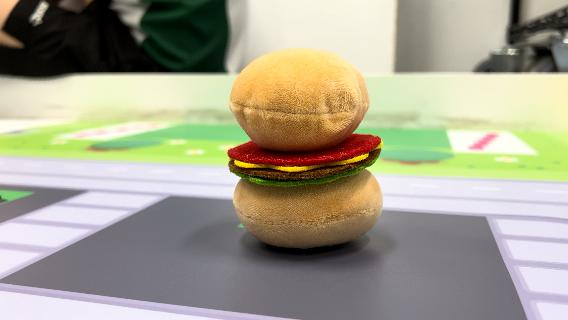burger: (223, 45, 389, 252)
